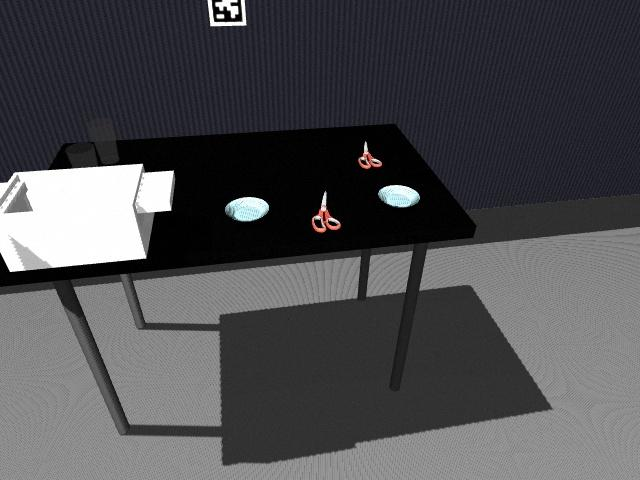cup: (87, 118, 120, 166), (66, 142, 97, 169)
plate: (223, 196, 271, 223), (376, 184, 422, 209)
scissors: (310, 189, 343, 234), (359, 140, 383, 169)
